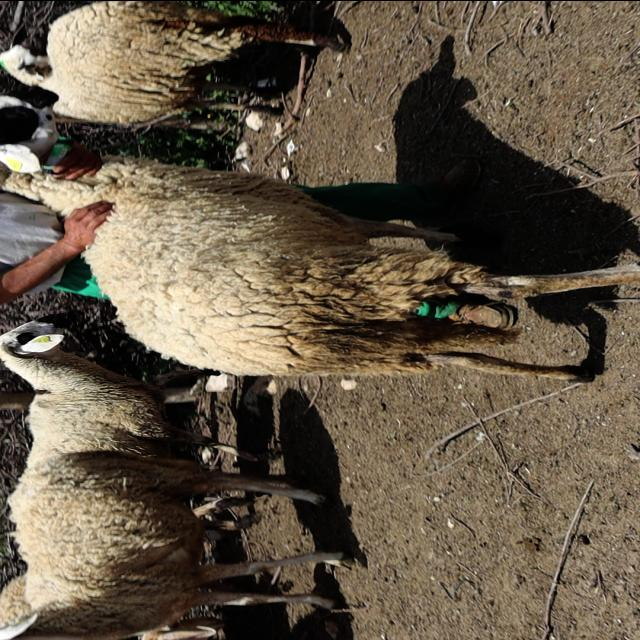Score_5: (0, 94, 639, 382)
